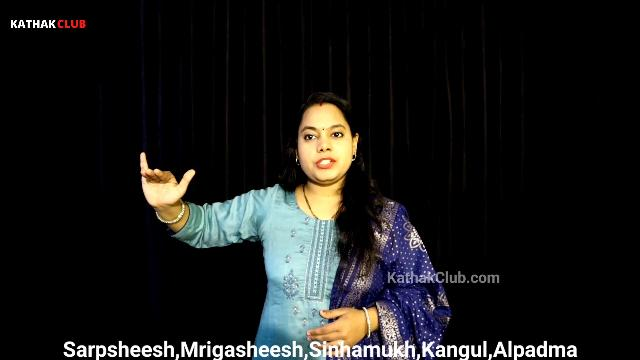mrighasheesh: (121, 145, 215, 225)
